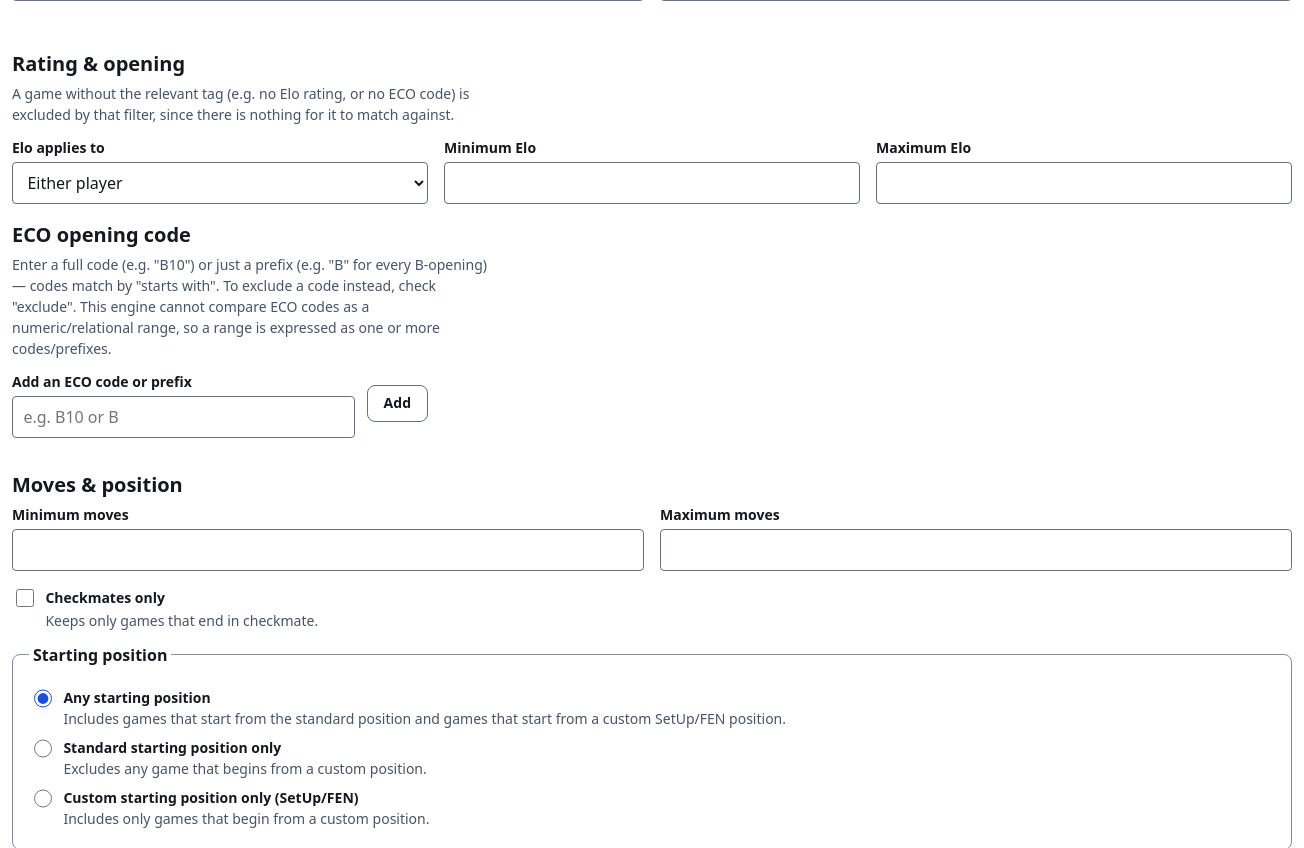
it: FiltersScreen › offers no ECO operator picker at all — only a value and an Exclude checkbox (D-010: =, >, >=, <, <= silently match nothing on this engine)
The width and height of the screenshot is (1304, 848).
(page scrolled)
Type "B10" into the field labelled "Add an ECO code or prefix".
click(183, 416); type("B10")  # box top-left (12, 396), bottom-right (355, 438)
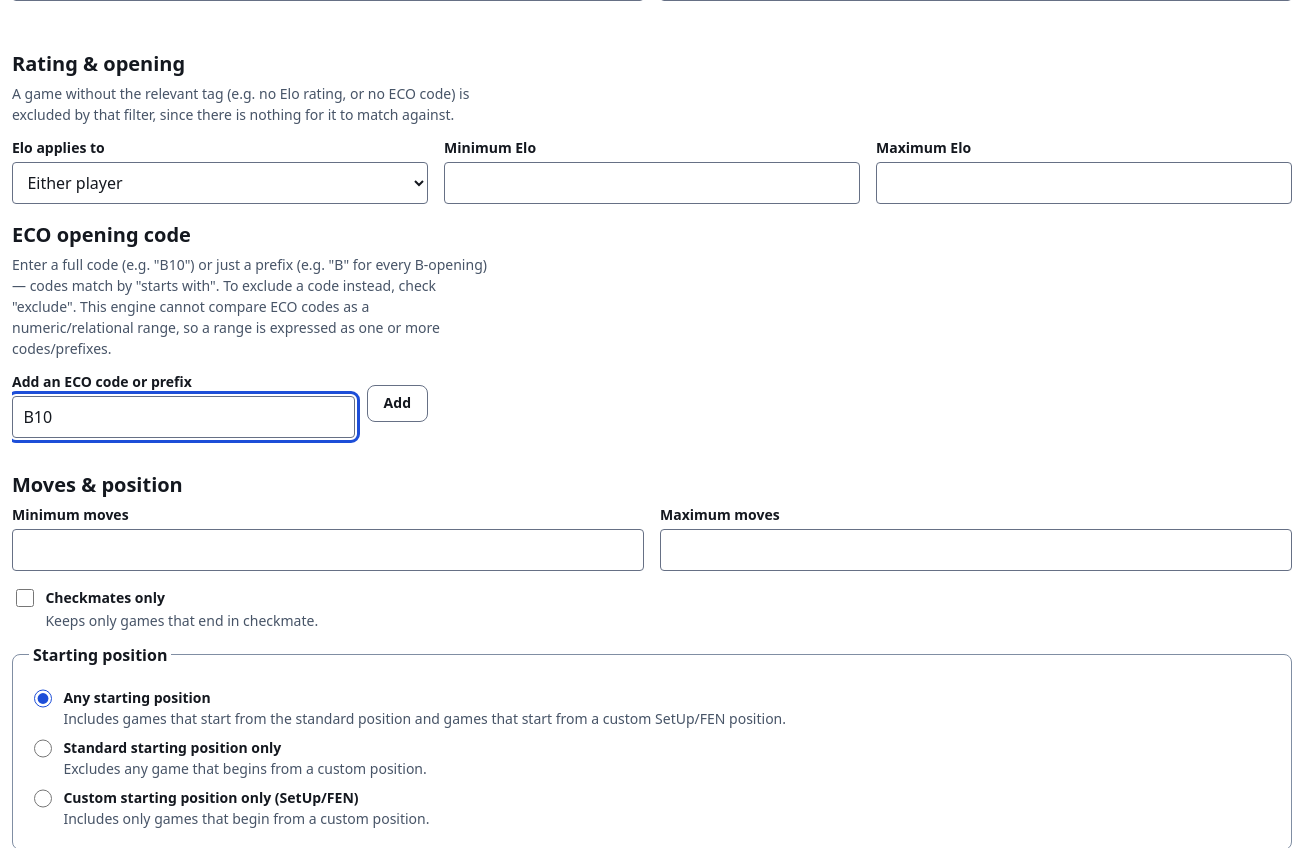
Click the button "Add".
click(397, 403)  # box top-left (367, 385), bottom-right (428, 422)
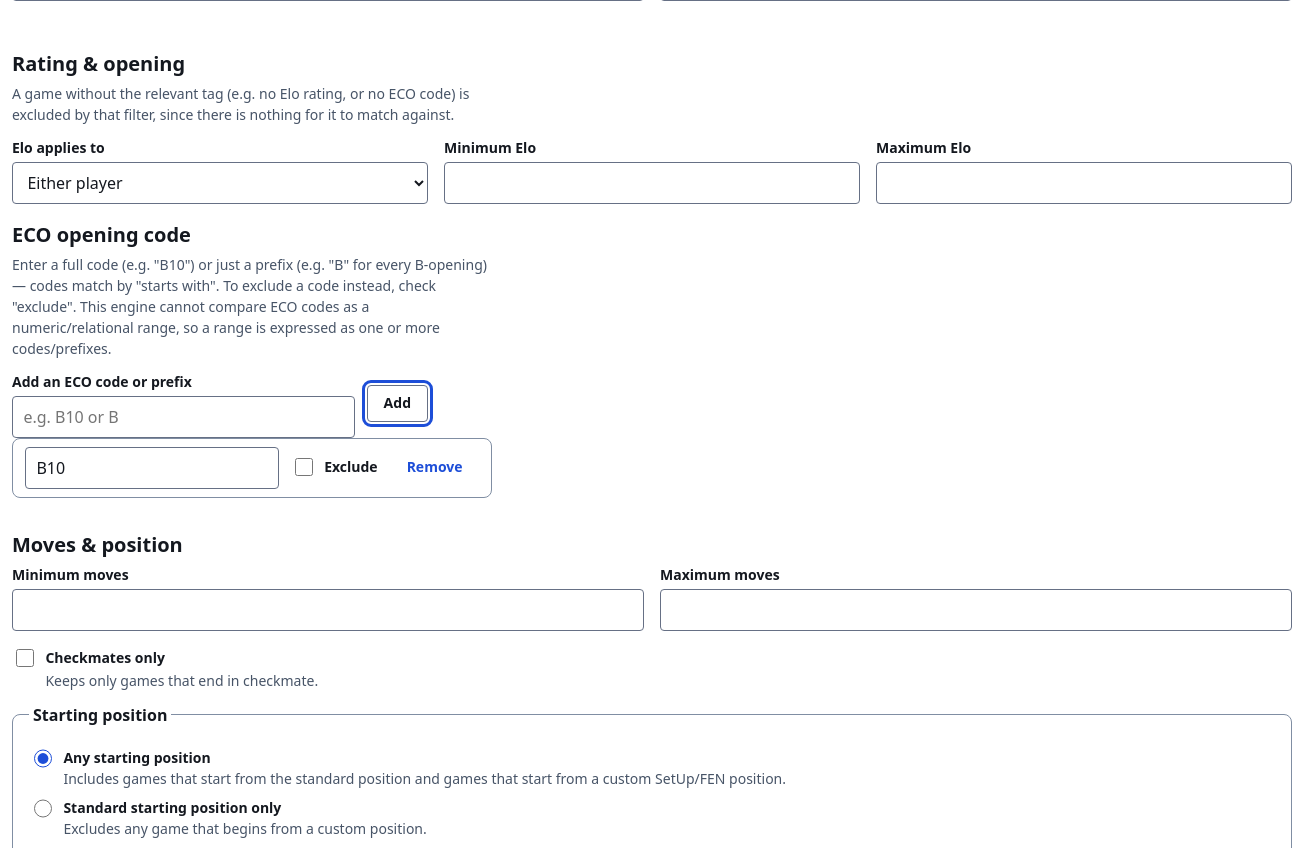
Check: the checkbox labelled "Exclude" is shown, box top-left (295, 458), bottom-right (313, 476)
